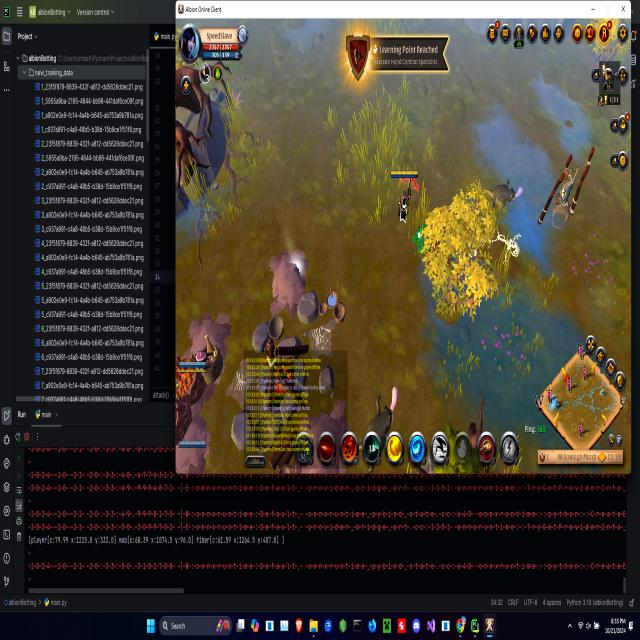hide: (409, 218, 434, 250)
red: (389, 161, 419, 227), (178, 357, 206, 376), (176, 437, 209, 451)
stone: (284, 256, 308, 286)
